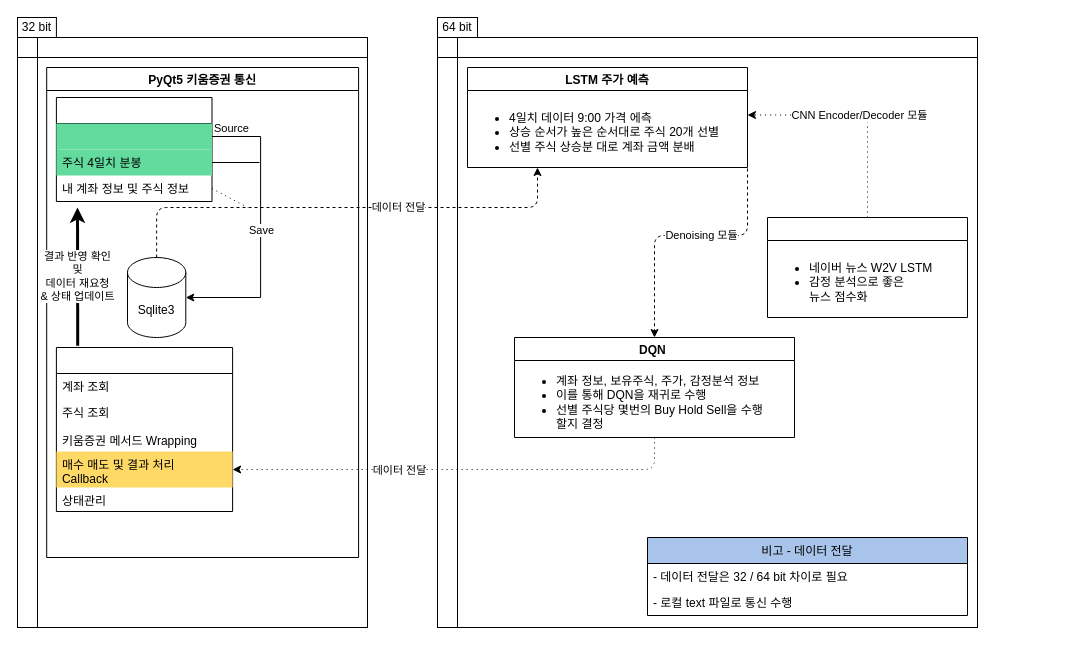
Some shapes in this 1065 by 645 pixel diagram are drawn without their labels. Each missing label, with the box of its shape:
뉴스 Crawling 및 감정분석: (766, 216, 968, 318)
데이터 Request: (55, 96, 212, 202)
주식 메서드: (55, 346, 233, 512)
주식 상장 정보: (56, 123, 212, 149)
